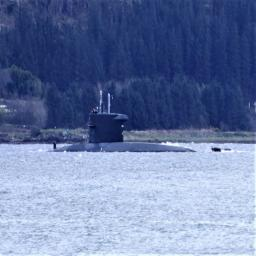submarine: (47, 93, 237, 151)
